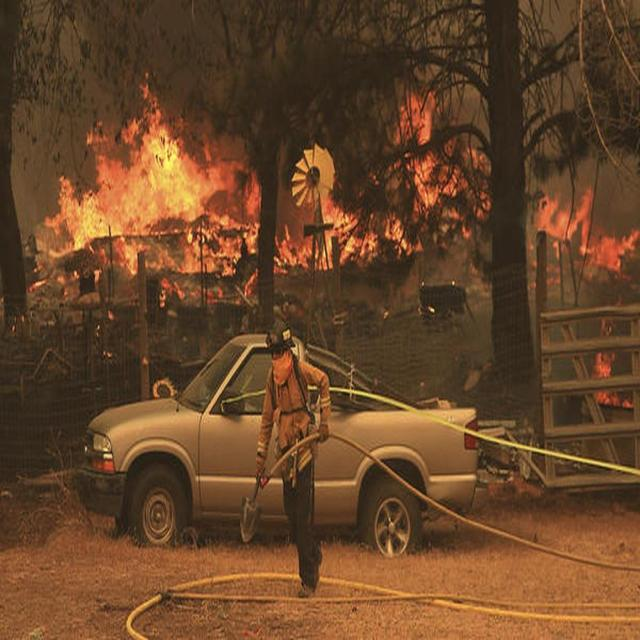Fire: (22, 70, 262, 309), (280, 85, 449, 276), (534, 177, 638, 280), (590, 322, 634, 408)
